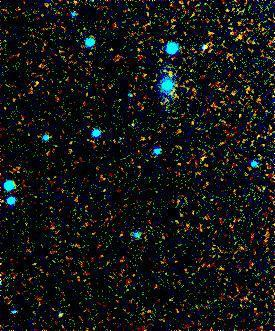star: (154, 59, 184, 89)
